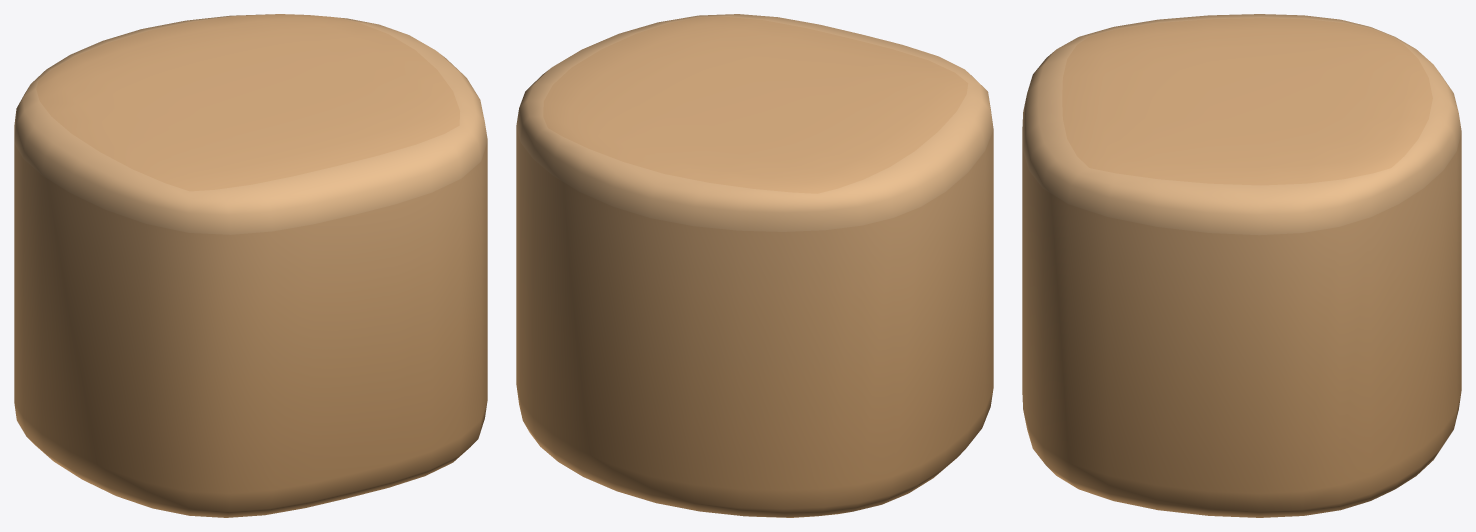
Rendered from big_stone_1_sand.fbx.
The picture shows the model from 3 angles, left to right: view 1: azimuth 30°, elevation 25°; view 2: azimuth 150°, elevation 25°; view 3: azimuth 270°, elevation 25°; orthographic projection.
Parts seen in each view (by area): view 1: big_stone_1_sand; view 2: big_stone_1_sand; view 3: big_stone_1_sand.
Boxes of the visible parts, box(x1,y1,x2,y2) form: big_stone_1_sand: box(14, 14, 487, 517); big_stone_1_sand: box(516, 14, 993, 517); big_stone_1_sand: box(1022, 14, 1461, 517).
Size of the model in its own units: 251 by 200 by 235.
